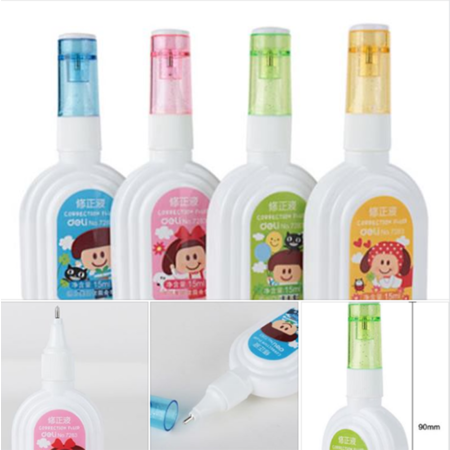Correction_fluid: (300, 20, 433, 299), (205, 21, 329, 299), (105, 25, 225, 298), (13, 23, 128, 304), (176, 302, 299, 429), (313, 303, 413, 450), (13, 306, 112, 450)
